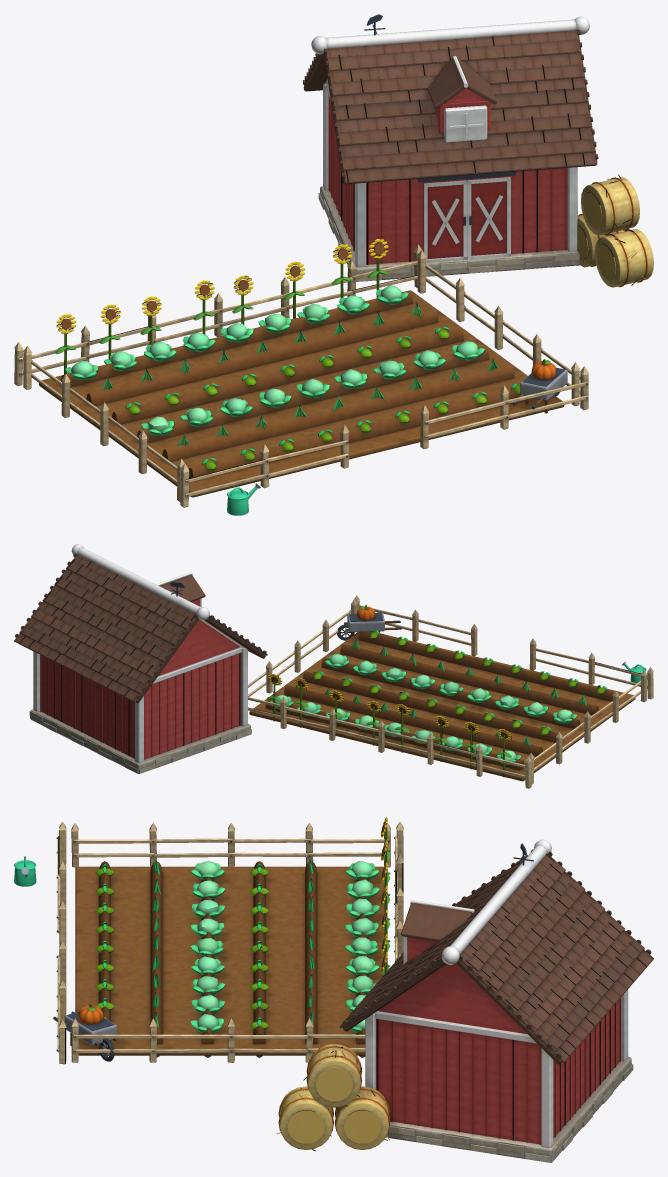
The model's file is farm.glb.
The picture shows the model from 3 angles, top to bottom: view 1: azimuth 30°, elevation 25°; view 2: azimuth 150°, elevation 25°; view 3: azimuth 270°, elevation 25°; orthographic projection. The views are drawn at different scales.
Visible parts, largest first — view 1: box; view 2: box; view 3: box.
Boxes of the visible parts, x1,y1,x2,y2 form: box: (14, 14, 653, 515); box: (14, 544, 653, 788); box: (14, 817, 653, 1162).
Bounding box in the file's own units: 23.37 × 8.26 × 20.49.
Materials: 1 (1 with a texture image).
